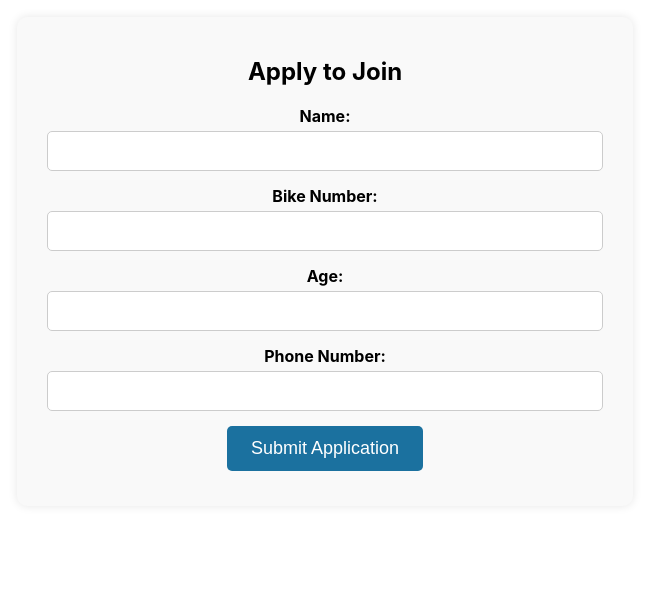
it: submits_invalid_application_form
This screenshot has width=651, height=612.
Fill in the form with invalid data
Click the button "Submit Application".
click(325, 448)  # box [227,426,423,471]
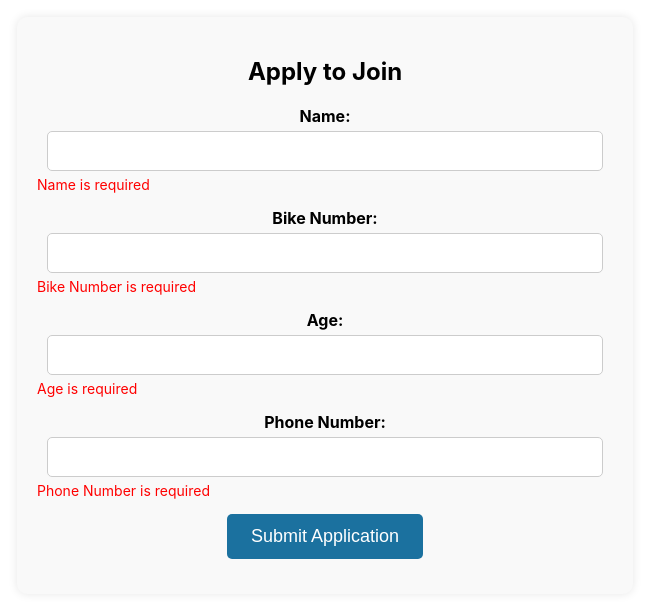
Expected: the text "Name is required" is shown, [37,176,150,193]
Expected: the text "Bike Number is required" is shown, [37,278,196,295]
Expected: the text "Age is required" is shown, [37,380,137,397]
